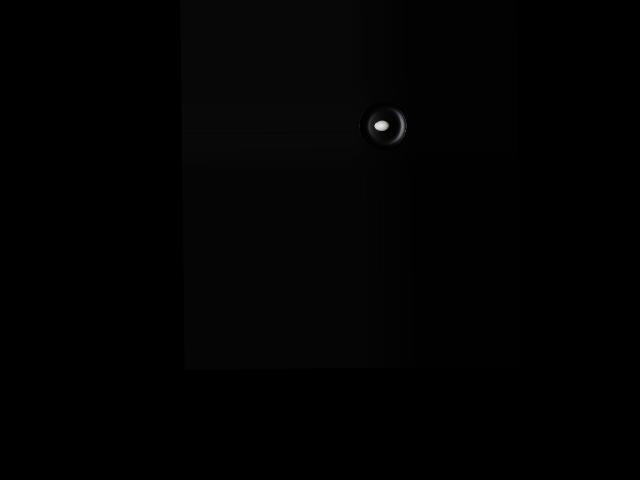egg: (374, 120, 389, 131)
